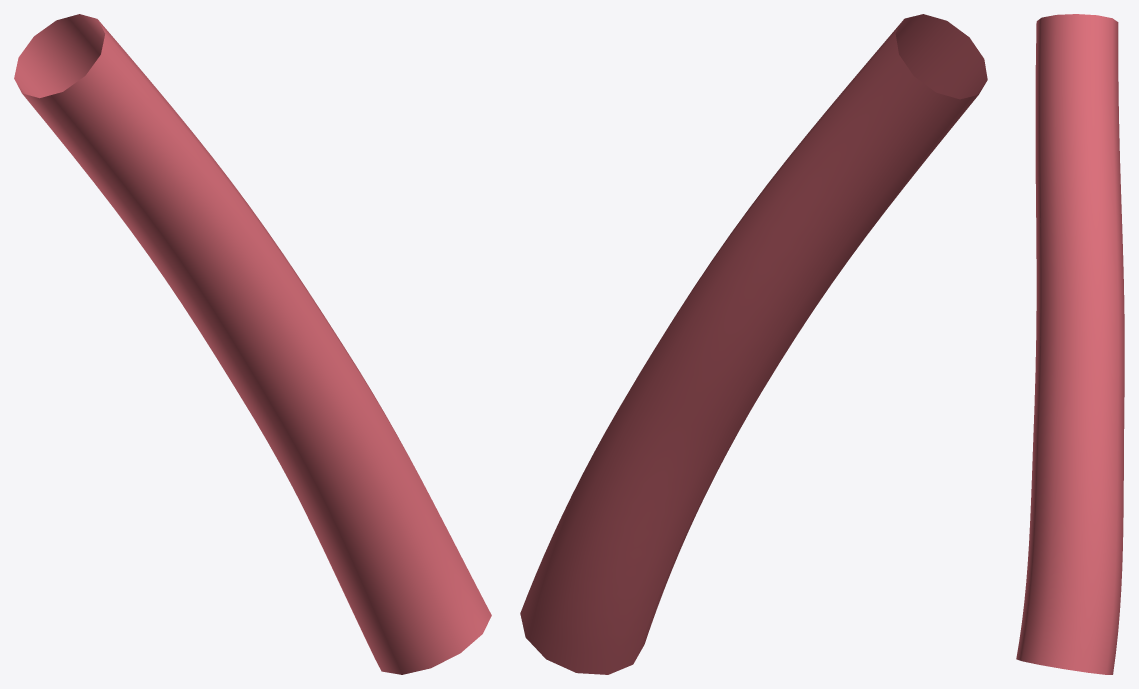
3 views of the same model, side by side, from view 1: azimuth 30°, elevation 25°; view 2: azimuth 150°, elevation 25°; view 3: azimuth 270°, elevation 25° (orthographic). The views are drawn at different scales.
Visible parts, largest first — view 1: ZA_573f30e599ca4985; view 2: ZA_573f30e599ca4985; view 3: ZA_573f30e599ca4985.
Part boxes in pixels (box(x1,y1,x2,y2)): ZA_573f30e599ca4985: box(14, 14, 491, 674); ZA_573f30e599ca4985: box(520, 14, 987, 674); ZA_573f30e599ca4985: box(1016, 14, 1124, 674).
Bounding box in the file's own units: 0.00982 × 0.0148 × 0.00266.
